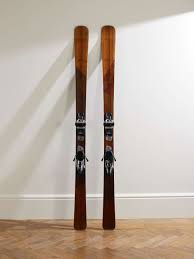skis: (72, 24, 117, 231)
